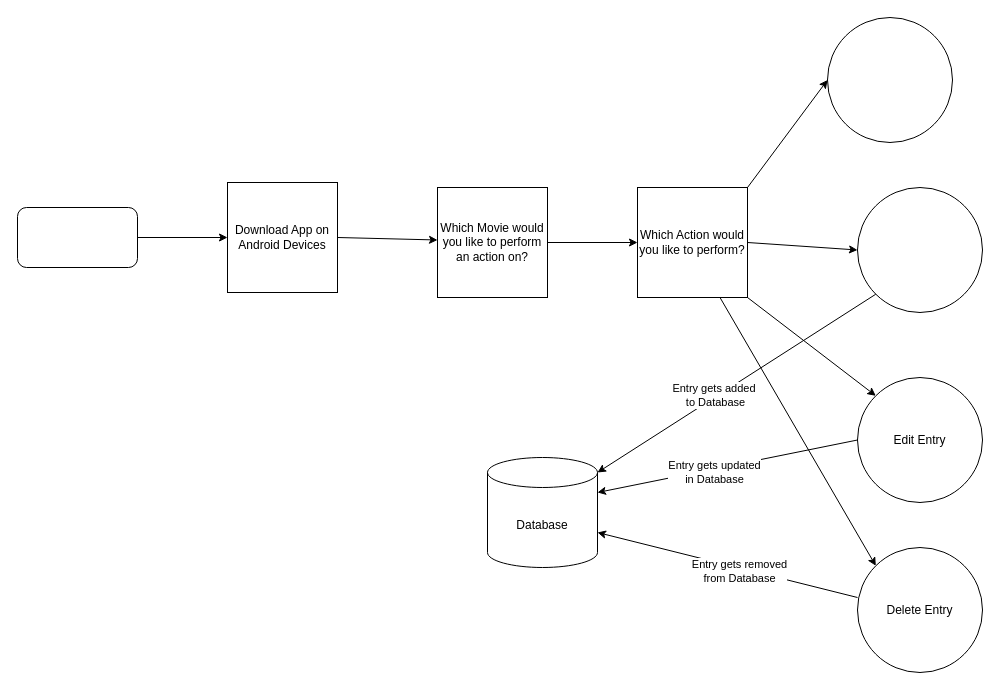
This 1000x690 diagram has some shape labels left out. The shapes that lost their labels are listed below. From the top down, each one's box as (x1, y1, x2, y2) in pixels, then its label:
(826, 16, 952, 142): View Entry
(16, 206, 138, 268): User
(856, 186, 982, 312): Create Entry
